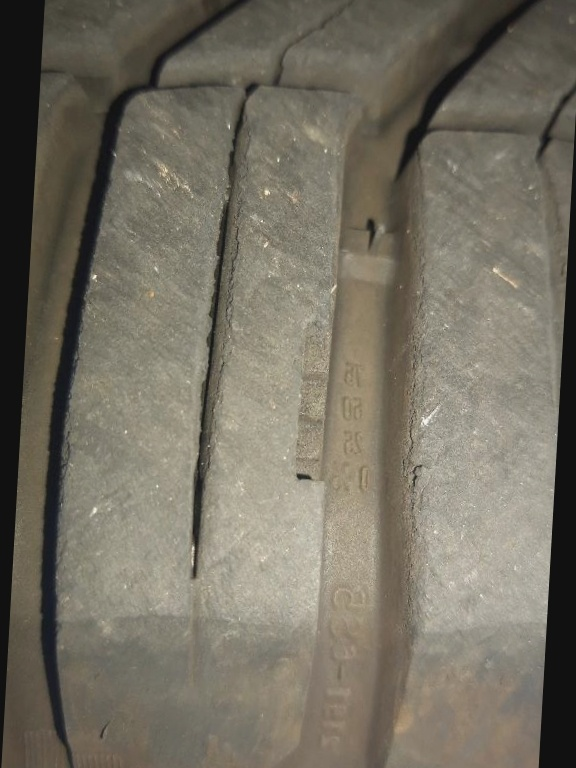temoin:90: (285, 284, 346, 499)
